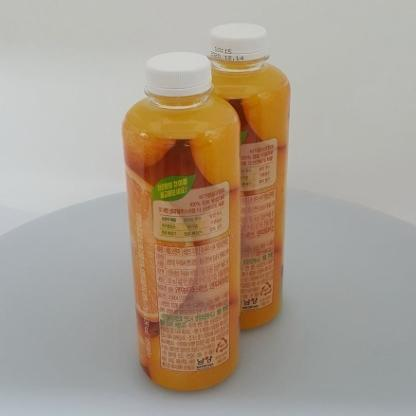-------730ML: (121, 51, 240, 392), (192, 22, 291, 331)
